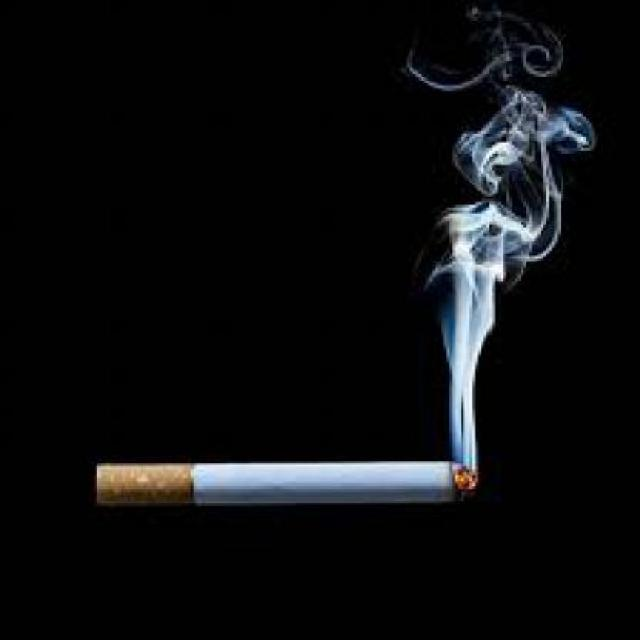cigarette: (74, 450, 503, 518)
